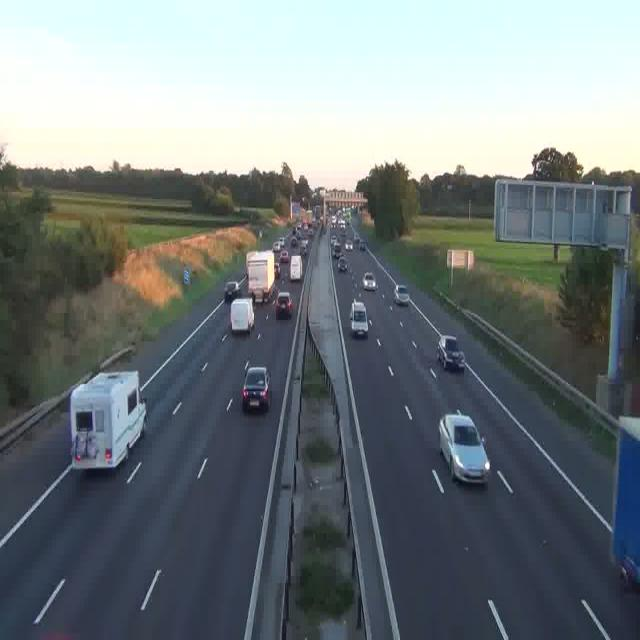car: (438, 412, 490, 484), (242, 366, 270, 412), (438, 334, 464, 371), (349, 301, 368, 338), (276, 291, 293, 318), (222, 282, 240, 301), (394, 284, 410, 305), (362, 272, 376, 291), (276, 258, 286, 277), (338, 256, 348, 272), (278, 252, 288, 266), (332, 242, 340, 257), (300, 244, 308, 256), (360, 238, 368, 249)
truck: (68, 371, 146, 470), (611, 415, 639, 592), (246, 251, 274, 302), (290, 257, 302, 281)
